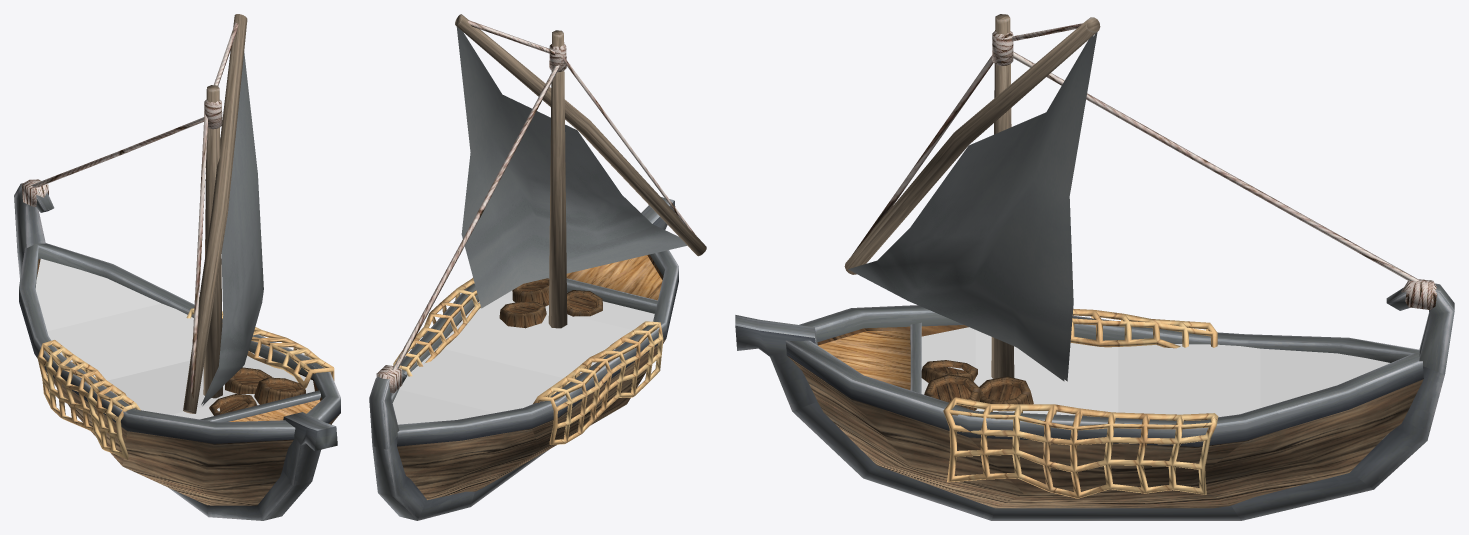
The model's file is FishingShip2_Metal.fbx.
The picture shows the model from 3 angles, left to right: view 1: azimuth 30°, elevation 25°; view 2: azimuth 150°, elevation 25°; view 3: azimuth 270°, elevation 25°; orthographic projection. The views are drawn at different scales.
Visible parts, largest first — view 1: FishingShip2_Metal, FishingShip2_Metal_Depth; view 2: FishingShip2_Metal, FishingShip2_Metal_Depth; view 3: FishingShip2_Metal, FishingShip2_Metal_Depth.
Boxes of the visible parts, bbox=[...] form: FishingShip2_Metal: bbox=[14, 14, 340, 520]; FishingShip2_Metal_Depth: bbox=[35, 258, 314, 419]; FishingShip2_Metal: bbox=[369, 14, 706, 520]; FishingShip2_Metal_Depth: bbox=[392, 290, 654, 424]; FishingShip2_Metal: bbox=[735, 14, 1454, 520]; FishingShip2_Metal_Depth: bbox=[921, 327, 1389, 417].
Bounding box in the file's own units: 290 × 602 × 733.
